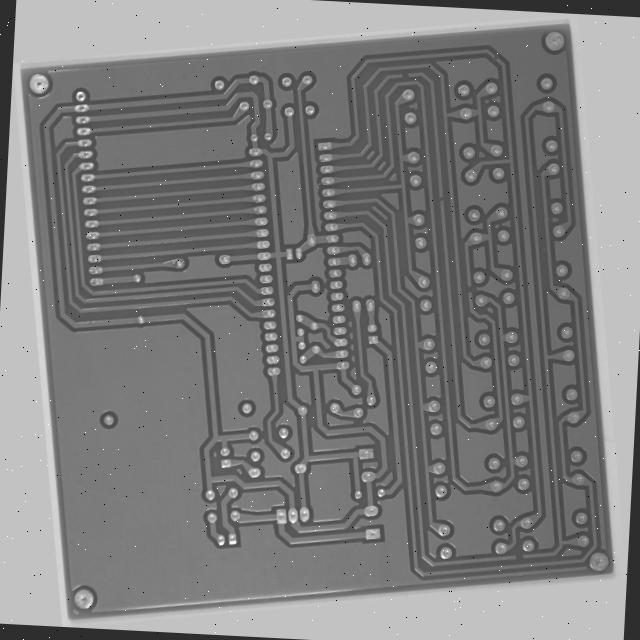open_circuit: (498, 608, 515, 623), (469, 197, 482, 212), (487, 301, 498, 317), (552, 46, 564, 60), (447, 54, 463, 64)
